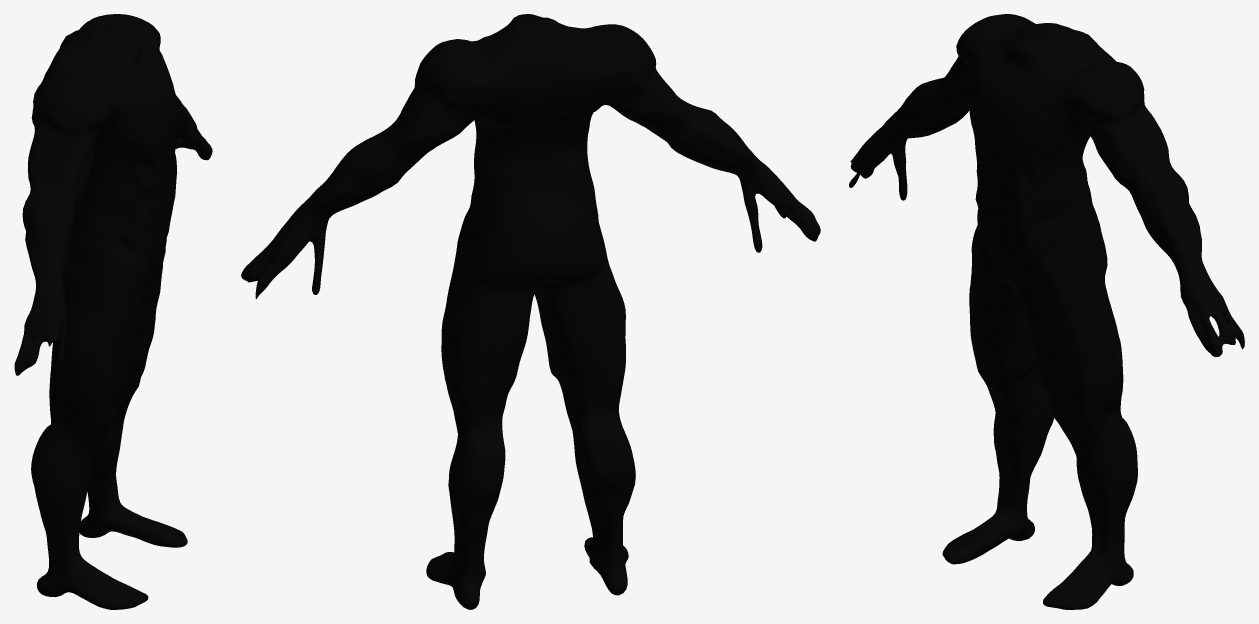
Rendered from _muscles_of_a_human_.glb.
The picture shows the model from 3 angles, left to right: view 1: azimuth 30°, elevation 25°; view 2: azimuth 150°, elevation 25°; view 3: azimuth 270°, elevation 25°; orthographic projection. The views are drawn at different scales.
Visible parts, largest first — view 1: node_id4; view 2: node_id4; view 3: node_id4.
Boxes of the visible parts, x1=… form: node_id4: x1=14, y1=14, x2=212, y2=609; node_id4: x1=241, y1=14, x2=820, y2=609; node_id4: x1=849, y1=14, x2=1244, y2=609.
Bounding box in the file's own units: 0.3707 × 0.512 × 0.3376.
Materials: 1 (1 with a texture image).
